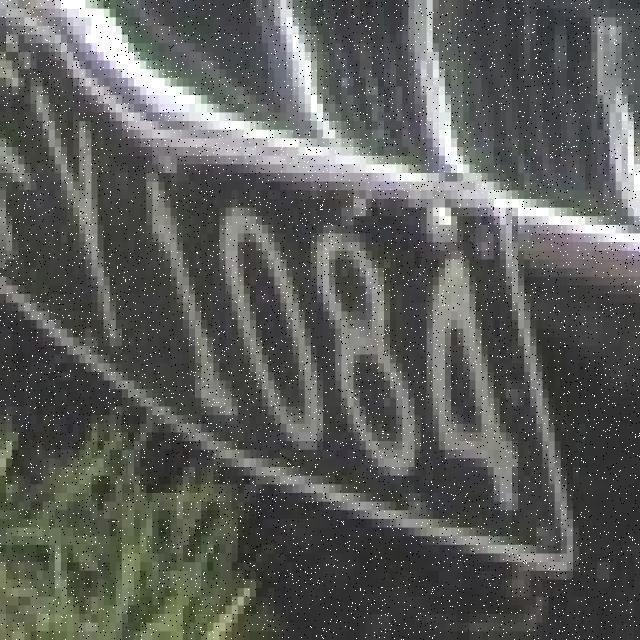License Plate: (0, 0, 572, 579)
